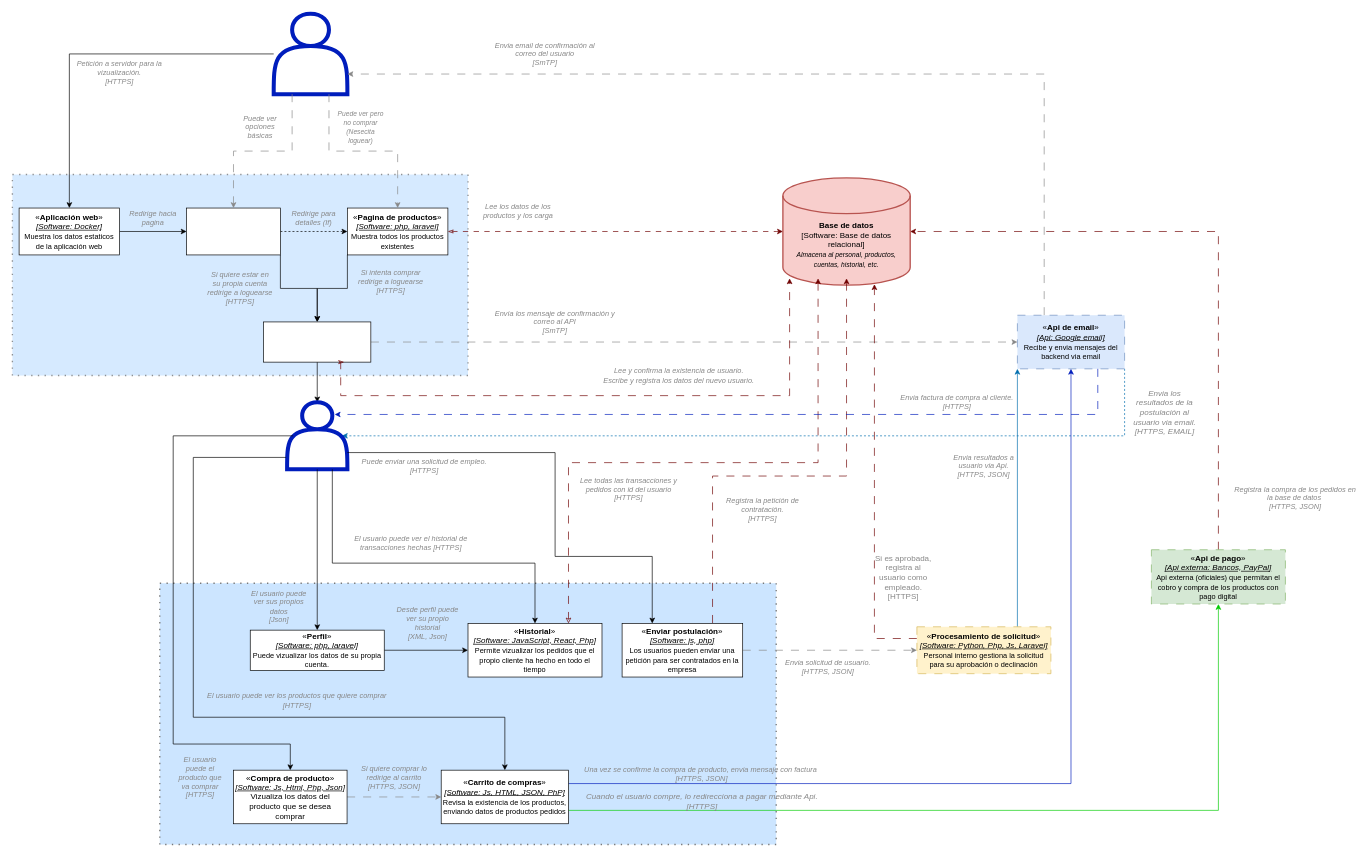
The diagram is 1370 pixels wide and 856 high, and some of its shapes have lost their labels. Here are the shapes that lost their labels. From the top down, the box of each, then its label:
(271, 11, 349, 96): Usuario [Sin loguear]
(186, 207, 280, 255): « Pagina web » [Software: php, laravel Carga la página principal en la web
(263, 321, 371, 362): « Logueo » [Software: php, laravel] El usuario registra o ingresa a una cuenta
(285, 400, 349, 471): Usuario [Esta logueado]
